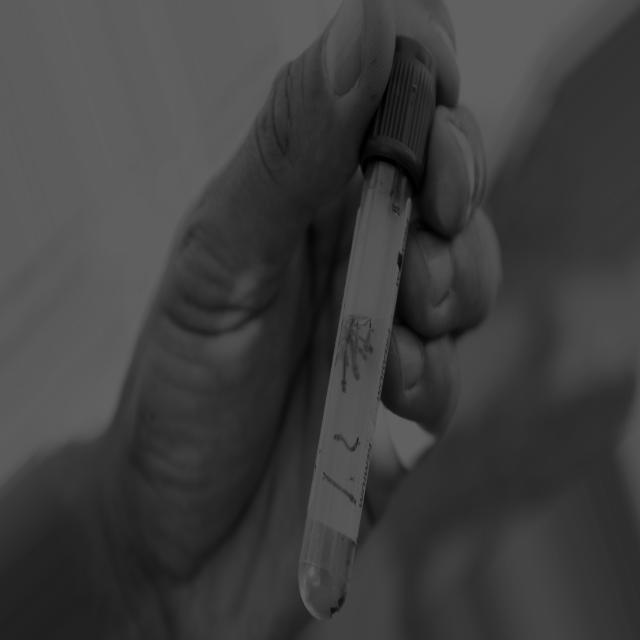larvas: (324, 473, 356, 504), (339, 324, 353, 392), (334, 433, 360, 452), (352, 322, 360, 379), (364, 323, 372, 351), (359, 348, 368, 359), (358, 336, 365, 341)
